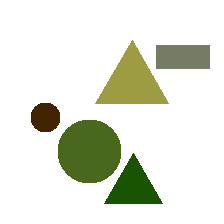circle: (58, 120, 120, 182), (31, 103, 59, 131)
rectangle: (156, 45, 209, 68)
triangle: (95, 40, 168, 103), (104, 153, 162, 203)
